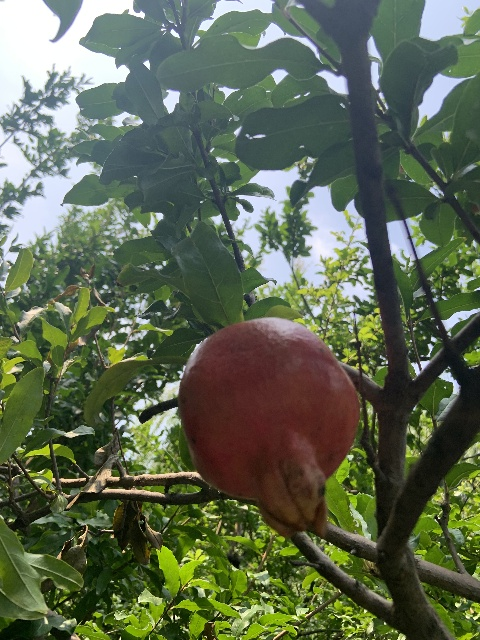ripe: (177, 317, 360, 539)
